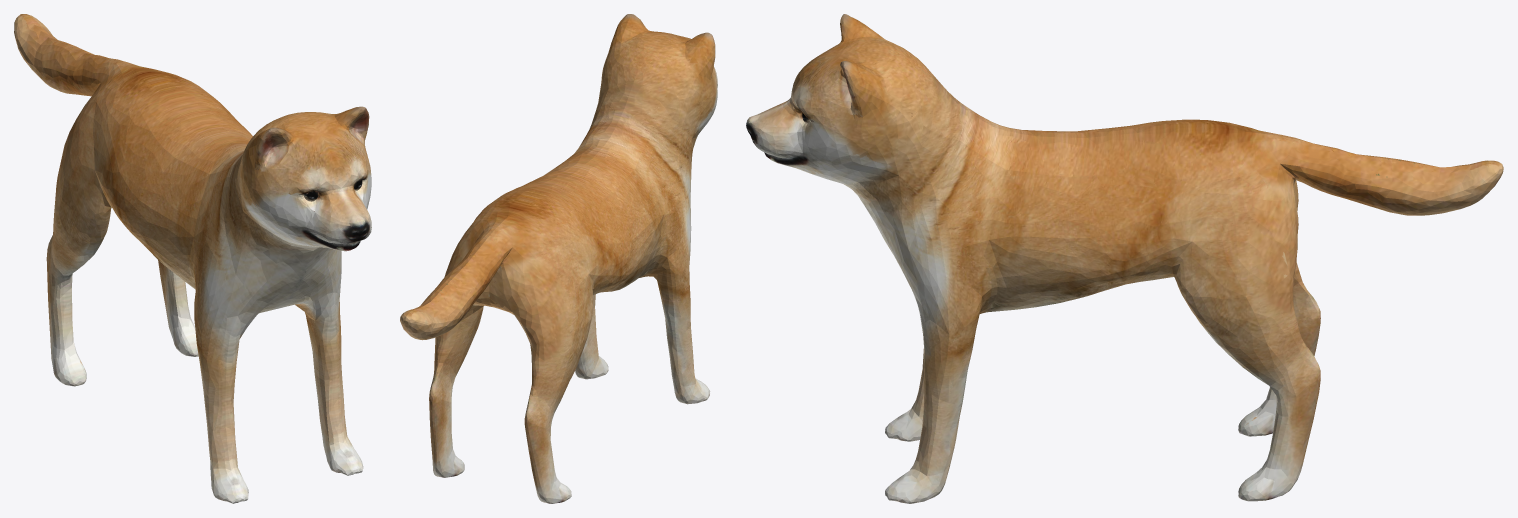
Rendered from Shiba Inu-bl.obj.
3 views of the same model, side by side, from view 1: azimuth 30°, elevation 25°; view 2: azimuth 150°, elevation 25°; view 3: azimuth 270°, elevation 25° (orthographic). The views are drawn at different scales.
Visible parts, largest first — view 1: Dog_Shiba_Inu_Puppy.001; view 2: Dog_Shiba_Inu_Puppy.001; view 3: Dog_Shiba_Inu_Puppy.001.
Boxes of the visible parts, bbox=[...] form: Dog_Shiba_Inu_Puppy.001: bbox=[14, 14, 371, 503]; Dog_Shiba_Inu_Puppy.001: bbox=[400, 14, 717, 503]; Dog_Shiba_Inu_Puppy.001: bbox=[746, 14, 1503, 503].
Size of the model in its own units: 1.76 by 4.37 by 7.
Materials: 1 (1 with a texture image).
